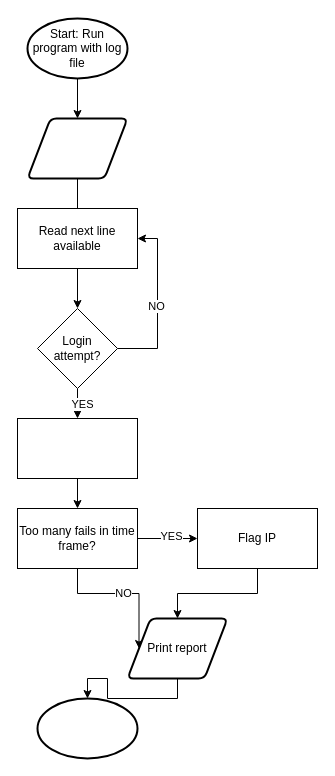
This 335x776 diagram has some shape labels left out. The shapes that lost their labels are listed below. From the top down, each one's centre as x and y in pixels, then its label:
At point (77, 148): "SSH log file".
At point (77, 448): "Get IP, username, and time".
At point (87, 728): "END".
